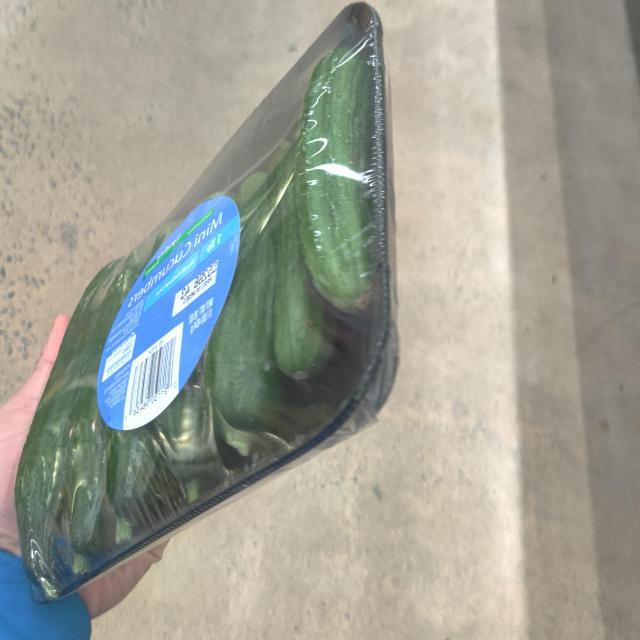Cucumber: (13, 0, 385, 597)
